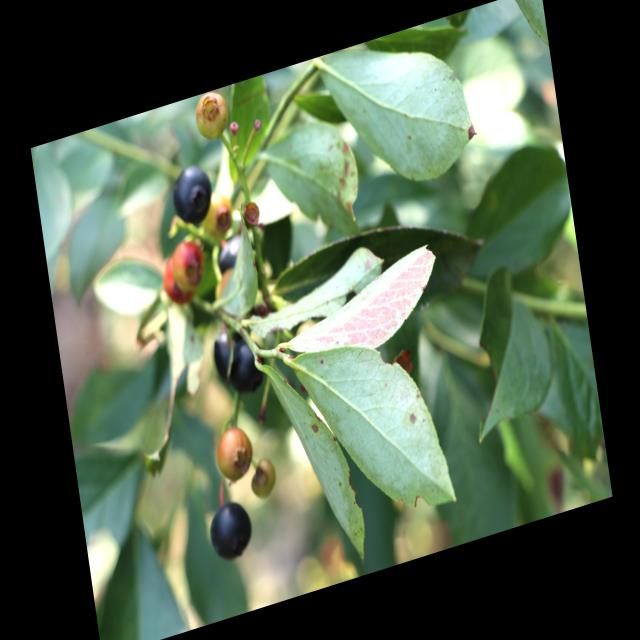blueberry: (212, 322, 266, 398), (207, 498, 256, 566), (170, 162, 212, 228), (216, 234, 253, 276)
blueberry-halfripe: (212, 419, 258, 487), (192, 87, 232, 146), (170, 238, 205, 290), (159, 258, 188, 311), (247, 459, 277, 500)
